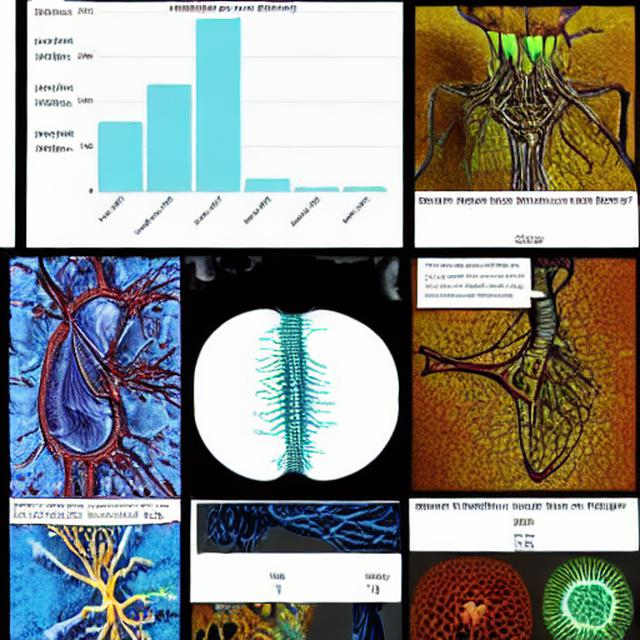Graph: (75, 2, 389, 237)
